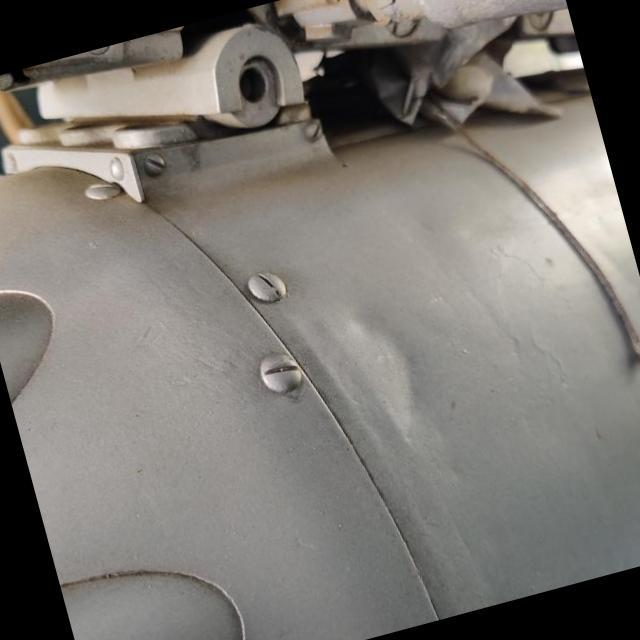Dent: (304, 277, 462, 463)
